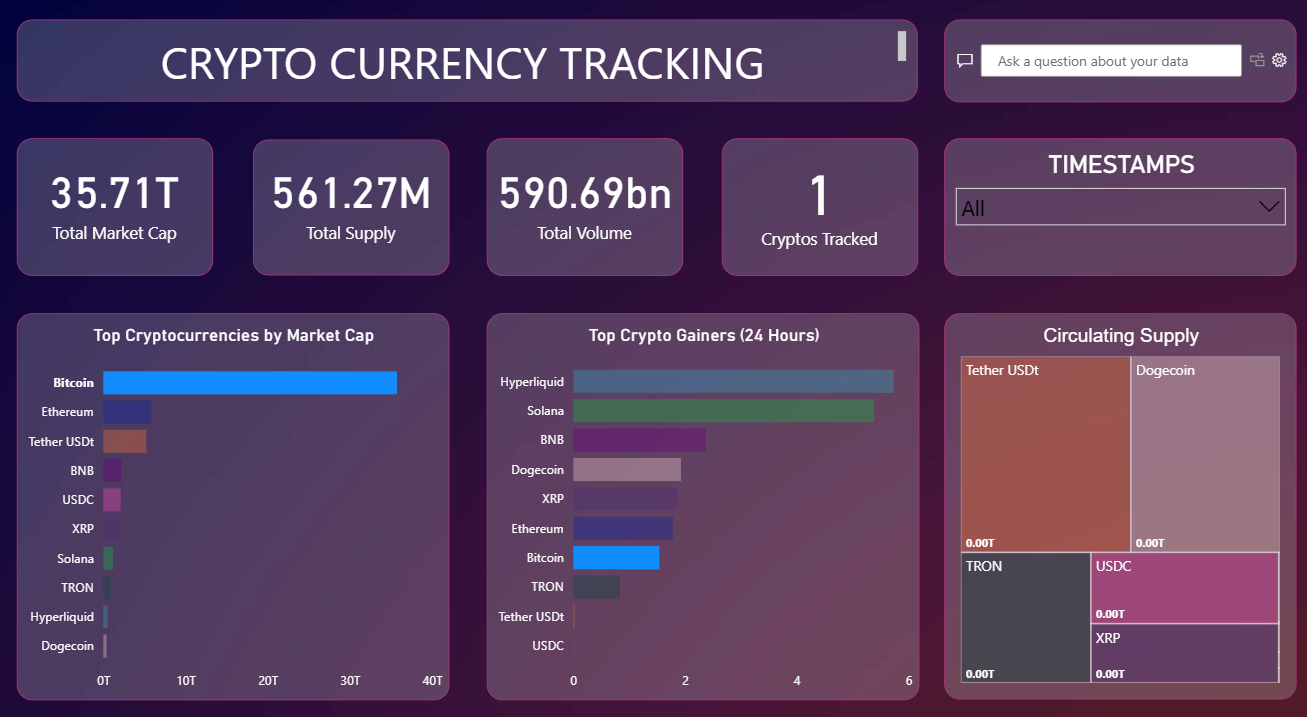

Layout of this report page (visuals, bound fields, positions):
{"tool":"powerbi","page":{"name":"Page 1","canvas":[1280,720],"ordinal":0},"visuals":[{"type":"textbox","box":[23.3,31.4,870,79.6],"z":0},{"type":"card","fields":{"Values":["crypto_tracking.Total Market Cap"]},"box":[22.9,146.2,189.4,132.7],"z":1000},{"type":"card","fields":{"Values":["crypto_tracking.Cryptos Tracked"]},"box":[703.4,146.2,189.4,132.7],"z":2000},{"type":"card","fields":{"Values":["Sum(crypto_tracking.total_supply)"]},"box":[250.9,147.4,189.4,131.5],"z":3000},{"type":"card","fields":{"Values":["crypto_tracking.Total Volume"]},"box":[476.5,146.2,189.4,132.7],"z":4000},{"type":"barChart","title":"Top Cryptocurrencies by Market Cap","fields":{"Category":["crypto_tracking.name"],"Y":["Sum(crypto_tracking.quote.USD.market_cap)"],"Series":["crypto_tracking.name"]},"box":[22.9,314.9,417.4,374],"z":5000},{"type":"qnaVisual","box":[918.1,31.4,340.2,79.6],"z":6000},{"type":"barChart","title":"Top Crypto Gainers (24 Hours)","fields":{"Y":["Max(crypto_tracking.quote.USD.percent_change_24h)"],"Series":["crypto_tracking.name"],"Category":["crypto_tracking.name"]},"box":[476.5,314.9,417.4,374],"z":7000},{"type":"treemap","title":"Circulating Supply","fields":{"Group":["crypto_tracking.name"],"Values":["Sum(crypto_tracking.circulating_supply)"]},"box":[918.1,314.9,340.2,372.8],"z":8000},{"type":"slicer","title":"TIMESTAMPS","fields":{"Values":["crypto_tracking.Timestamp"]},"box":[918.1,146,340.2,132.7],"z":9000}]}

Visuals, with their boxes in screenshot pixels (x1, y1, x2, y2), scaled from the page's 1280x720 canvas onto the 1307x717 screenshot:
textbox: [24,31,912,111]
card - crypto_tracking.Total Market Cap: [23,146,217,278]
card - crypto_tracking.Cryptos Tracked: [718,146,912,278]
card - Sum(crypto_tracking.total_supply): [256,147,450,278]
card - crypto_tracking.Total Volume: [487,146,680,278]
"Top Cryptocurrencies by Market Cap" barChart: [23,314,450,686]
qnaVisual: [937,31,1285,111]
"Top Crypto Gainers (24 Hours)" barChart: [487,314,913,686]
"Circulating Supply" treemap: [937,314,1285,685]
"TIMESTAMPS" slicer: [937,145,1285,278]
